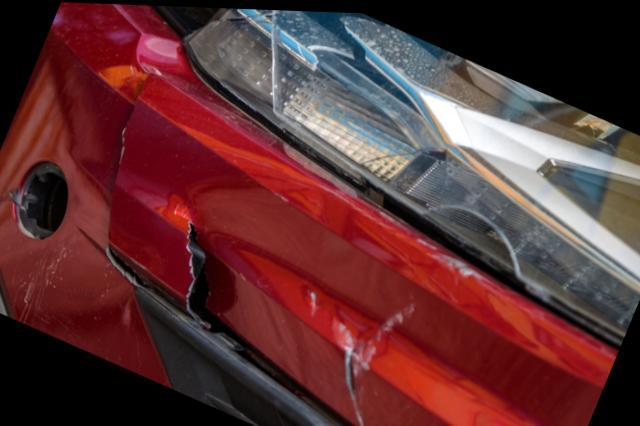crack: (104, 69, 151, 288), (187, 221, 209, 321), (345, 324, 364, 426), (0, 200, 26, 210)
lamp broken: (182, 6, 640, 348)
